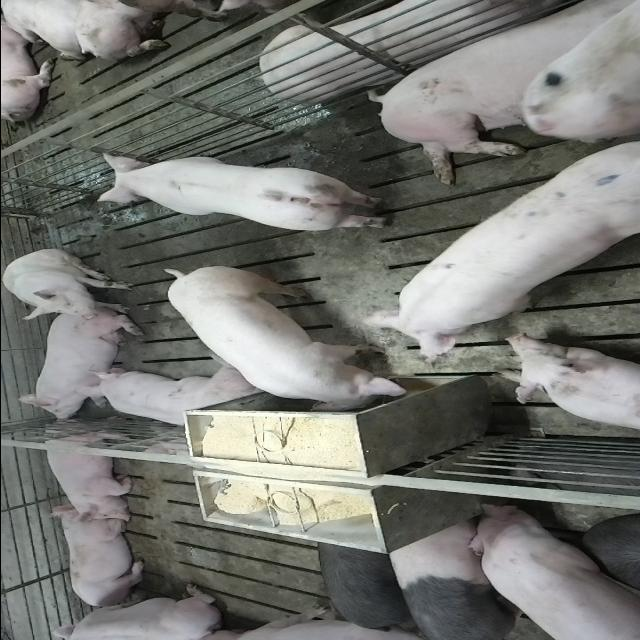Feeding: (162, 271, 414, 419)
Lateral_lying: (362, 3, 634, 187), (258, 1, 578, 102)
Sitting: (2, 249, 136, 319)
Standing: (356, 134, 636, 364), (100, 151, 397, 233), (463, 502, 640, 638), (382, 517, 550, 638), (312, 536, 424, 636)
Sternal_lying: (11, 314, 139, 424), (501, 336, 640, 437), (80, 368, 258, 430), (38, 583, 225, 637), (52, 508, 150, 610), (38, 425, 138, 522)
